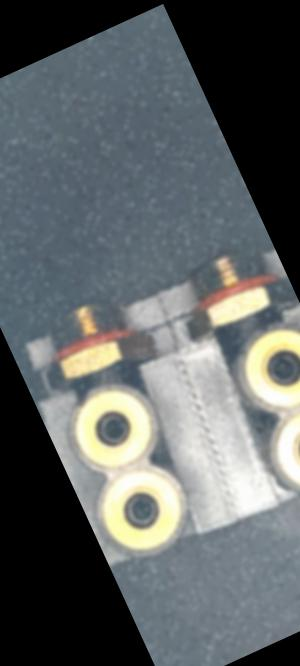bump: (252, 321, 278, 344), (69, 390, 95, 411), (235, 344, 251, 361)
